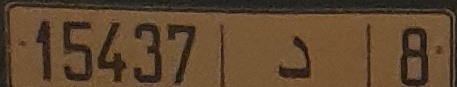1: (34, 20, 53, 81)
3: (131, 22, 163, 83)
4: (95, 21, 127, 82)
5: (61, 19, 94, 81)
7: (166, 22, 197, 84)
8: (399, 24, 430, 87)
d: (275, 33, 313, 80)
